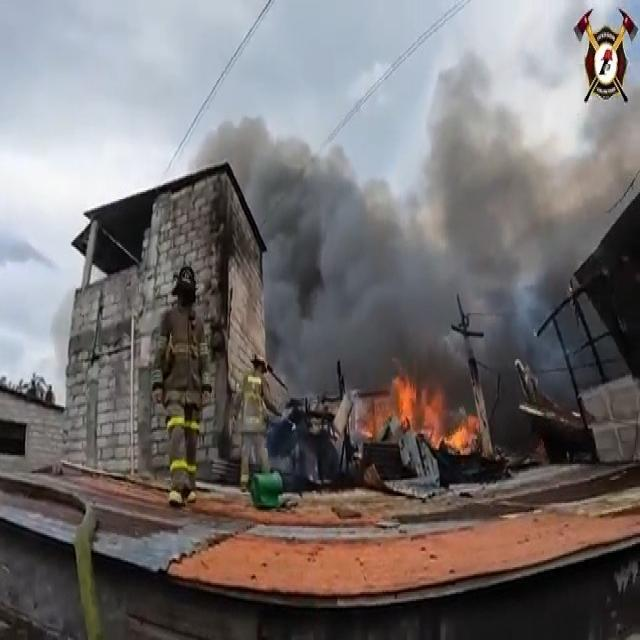Fire: (355, 364, 482, 458)
Smoke: (187, 94, 585, 466)
